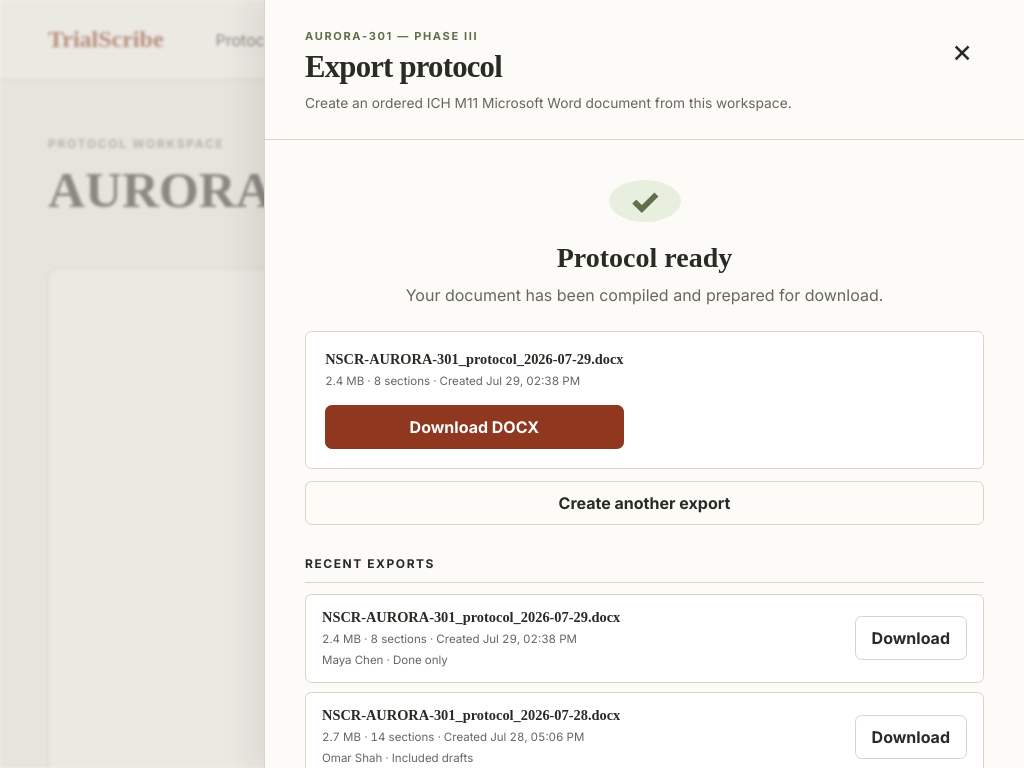
Test case: ExportPage › supports ready download feedback without creating a file
Click the button "Download DOCX": click(474, 427) [325, 405, 624, 449]
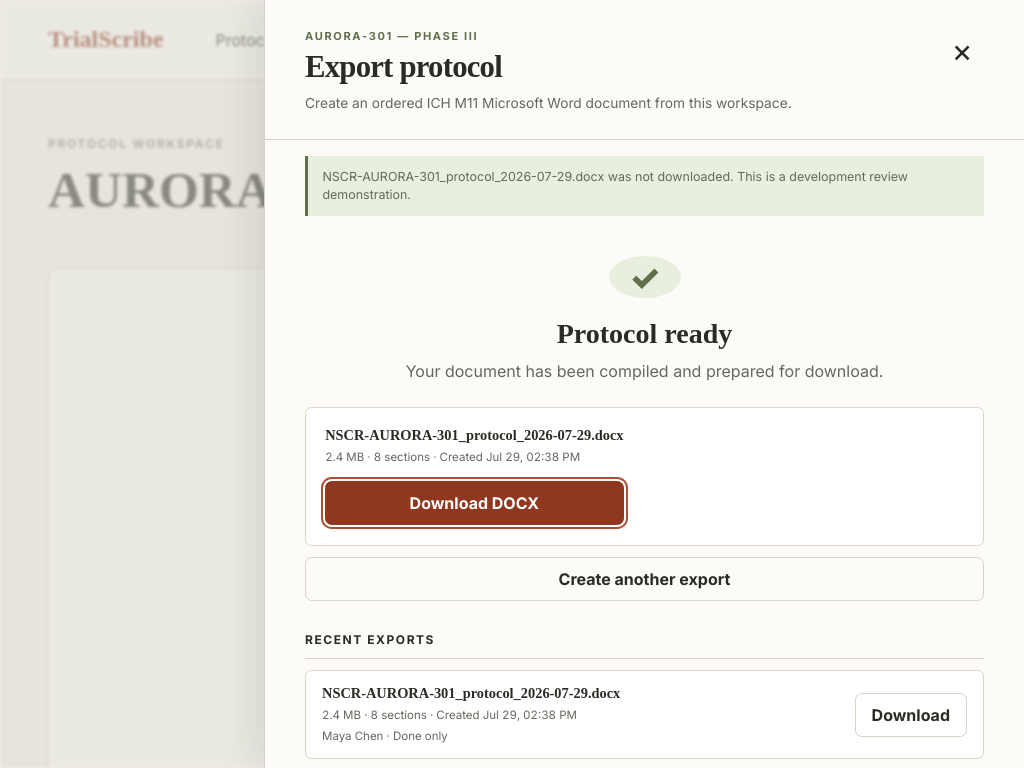
Result: the message shows "was not downloaded" at [322, 169, 908, 202]
